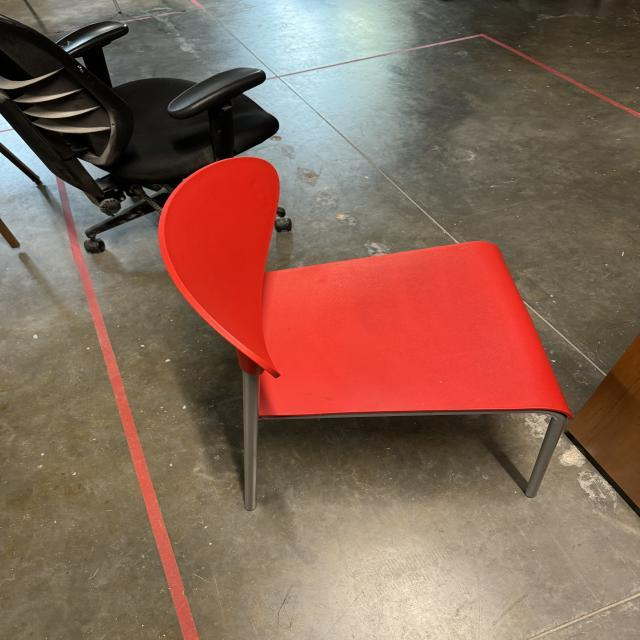chair: (147, 154, 570, 508)
